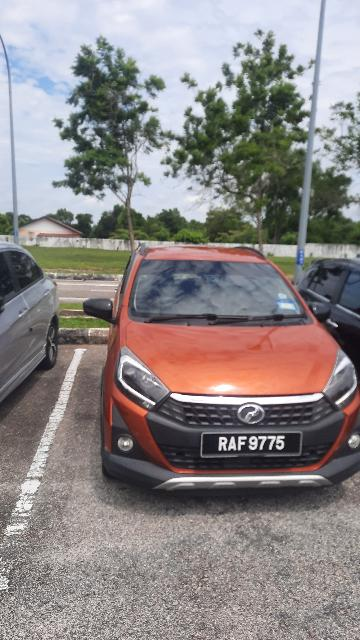License_Plate: (198, 421, 310, 462)
car: (89, 247, 360, 511)
